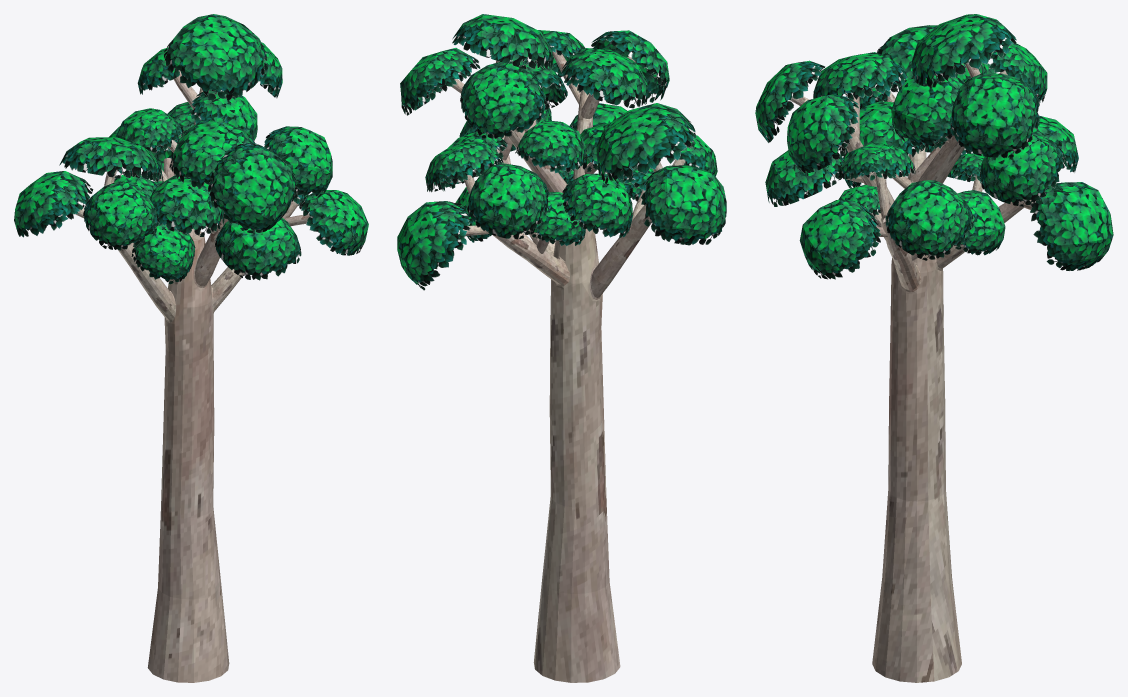
The model's file is Tree-atempt-3 .fbx.
3 renders of one model, left to right at view 1: azimuth 30°, elevation 25°; view 2: azimuth 150°, elevation 25°; view 3: azimuth 270°, elevation 25°, orthographic. The views are drawn at different scales.
Visible parts, largest first — view 1: GumTree_LOD0; view 2: GumTree_LOD0; view 3: GumTree_LOD0.
Boxes of the visible parts, box(x1,y1,x2,y2) form: GumTree_LOD0: box(14, 14, 368, 682); GumTree_LOD0: box(397, 14, 726, 682); GumTree_LOD0: box(755, 14, 1113, 682).
Size of what is drawn, in the model's own units: 931 by 1867 by 903.
